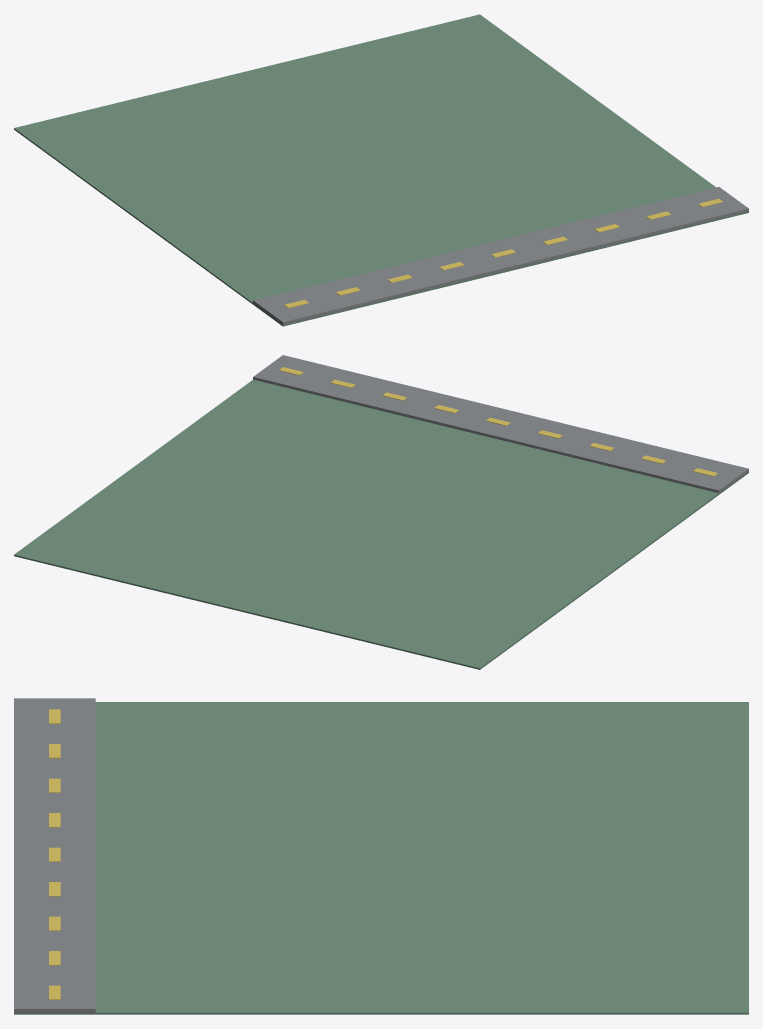
The model's file is stage_00.glb.
3 views of the same model, one above another, from view 1: azimuth 30°, elevation 25°; view 2: azimuth 150°, elevation 25°; view 3: azimuth 270°, elevation 25° (orthographic). The views are drawn at different scales.
Visible parts, largest first — view 1: geometry_0; view 2: geometry_0; view 3: geometry_0.
Boxes of the visible parts, bbox=[...] form: geometry_0: bbox=[14, 14, 748, 326]; geometry_0: bbox=[14, 355, 748, 669]; geometry_0: bbox=[14, 698, 748, 1014].
Bounding box in the file's own units: 9 × 0.091 × 9.
